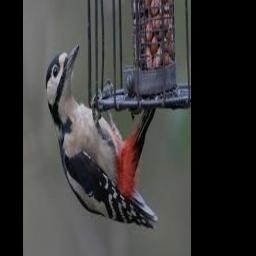Woodpecker: (45, 44, 158, 230)
